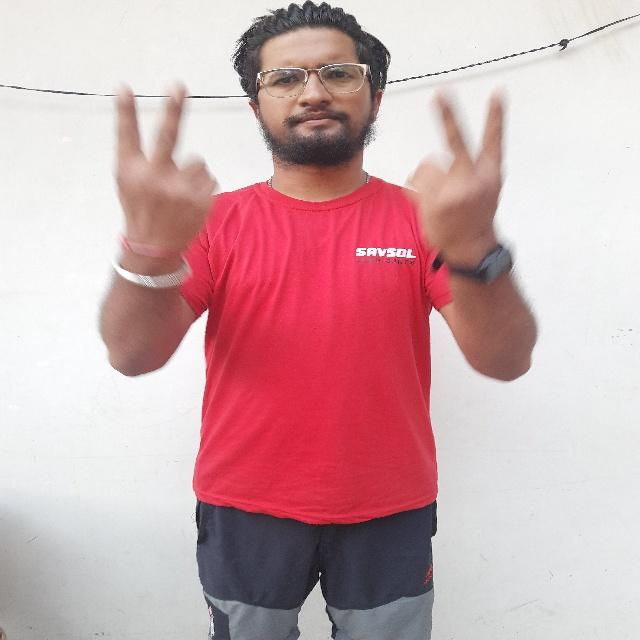Reversed Victory: (382, 71, 522, 276), (100, 75, 228, 278)
